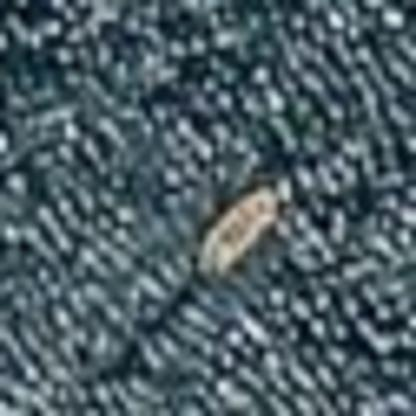ship: (181, 180, 300, 280)
